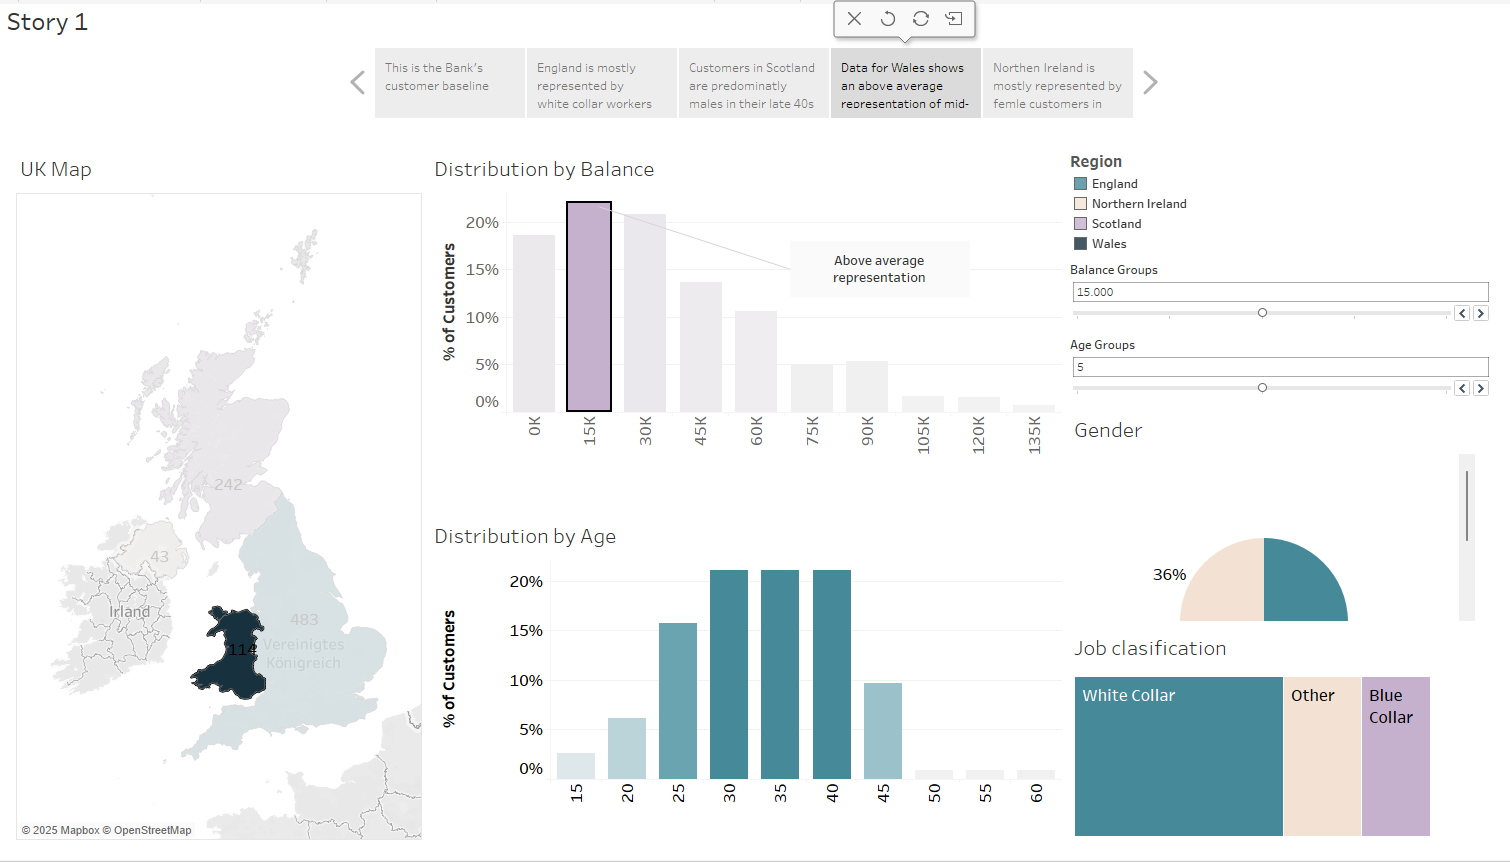

What the dashboard file says about the page in this screenshot:
{"tool":"tableau","page":{"name":"Dashboard 1","canvas":[1000,1000],"units":"permille","ordinal":0},"visuals":[{"type":"worksheet","title":"Map","mark":"Multipolygon","box":[5,9.3,284.2,981.3]},{"type":"worksheet","title":"Distribution by Balance","mark":"Automatic","rows":["S5-UK-Bank-Customers.csv_B45DB51653B342A3A7C09D85A27FE990"],"cols":["Balance (bin)"],"box":[289.2,9.3,438.4,516.4]},{"type":"legend","title":"Map","param":"[federated.0mpdn861iodhde19xuwsz0jiph79].[none:Region:nk]","box":[727.6,9.3,267.4,129.7]},{"type":"parameter","param":"[Parameters].[Parameter 1]","box":[727.6,139,267.4,87.6]},{"type":"parameter","param":"[Parameters].[Parameter 2]","box":[727.6,226.7,267.4,87.6]},{"type":"worksheet","title":"Gender","mark":"Pie","box":[727.6,314.3,267.4,338.2]},{"type":"worksheet","title":"Distribution by Age","mark":"Automatic","rows":["S5-UK-Bank-Customers.csv_B45DB51653B342A3A7C09D85A27FE990"],"cols":["Age (bin)"],"box":[289.2,525.7,438.4,464.9]},{"type":"worksheet","title":"Job clasification","mark":"Automatic","box":[727.6,652.5,267.4,338.2]}]}

Visuals, with their boxes on the dashboard's canvas, which has no fixed pixel size, in thousandths of its width and height (x1, y1, x2, y2). These are canvas units, not pixel positions in the 1510x862 screenshot, which may show the page scaled, cropped or inside an application window:
"Map" worksheet (Multipolygon marks): (5, 9, 289, 991)
"Distribution by Balance" worksheet: (289, 9, 728, 526)
"Map" legend: (728, 9, 995, 139)
parameter: (728, 139, 995, 227)
parameter: (728, 227, 995, 314)
"Gender" worksheet (Pie marks): (728, 314, 995, 652)
"Distribution by Age" worksheet: (289, 526, 728, 991)
"Job clasification" worksheet: (728, 652, 995, 991)
